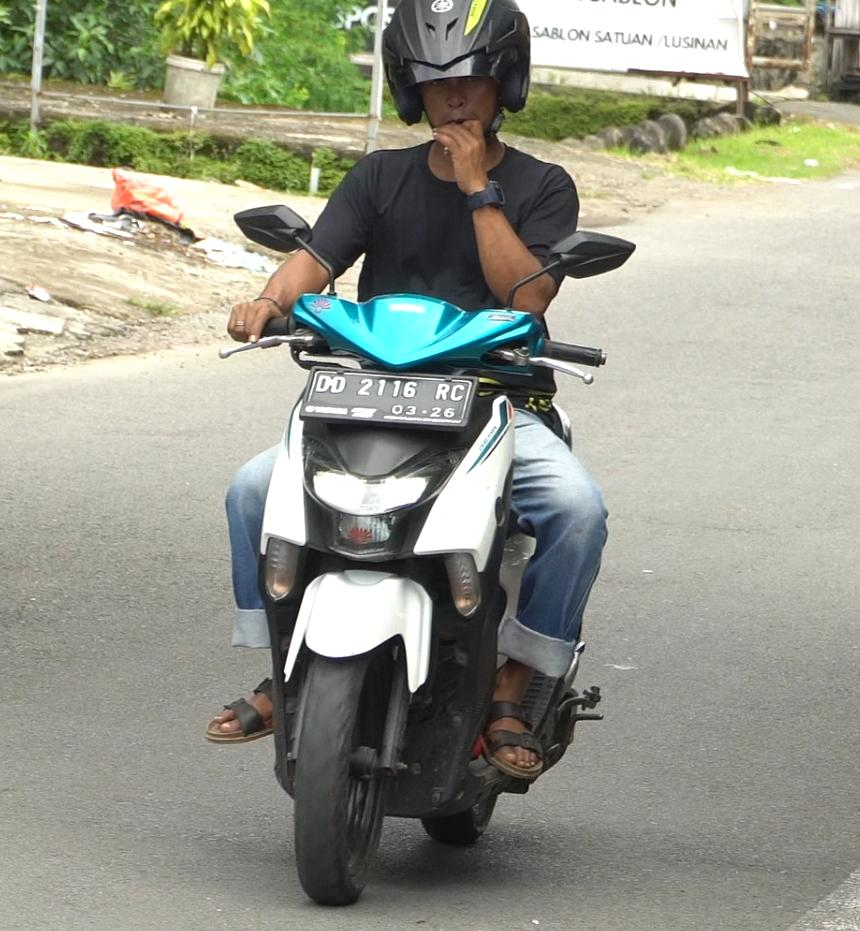number-plate: (295, 366, 477, 431)
